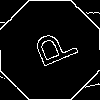P: (25, 25, 79, 74)
